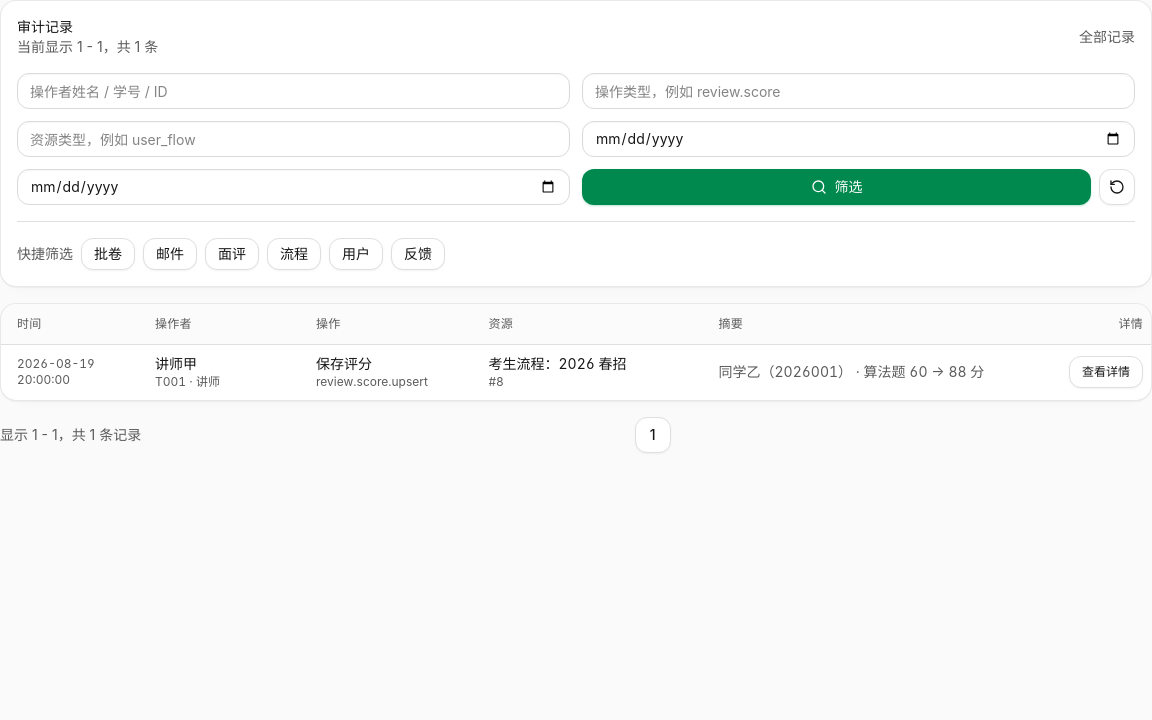
AuditLogTable › renders a compact scoring summary and reveals full details on demand
The width and height of the screenshot is (1152, 720).
Expected: the text "同学乙（2026001） · 算法题 60 → 88 分" is shown, [718,362,1031,382]
Expected: the text "2026-08-19" is shown, [17,356,95,371]
Click the button "查看详情" at (1106, 372), box [1069,356,1143,388]
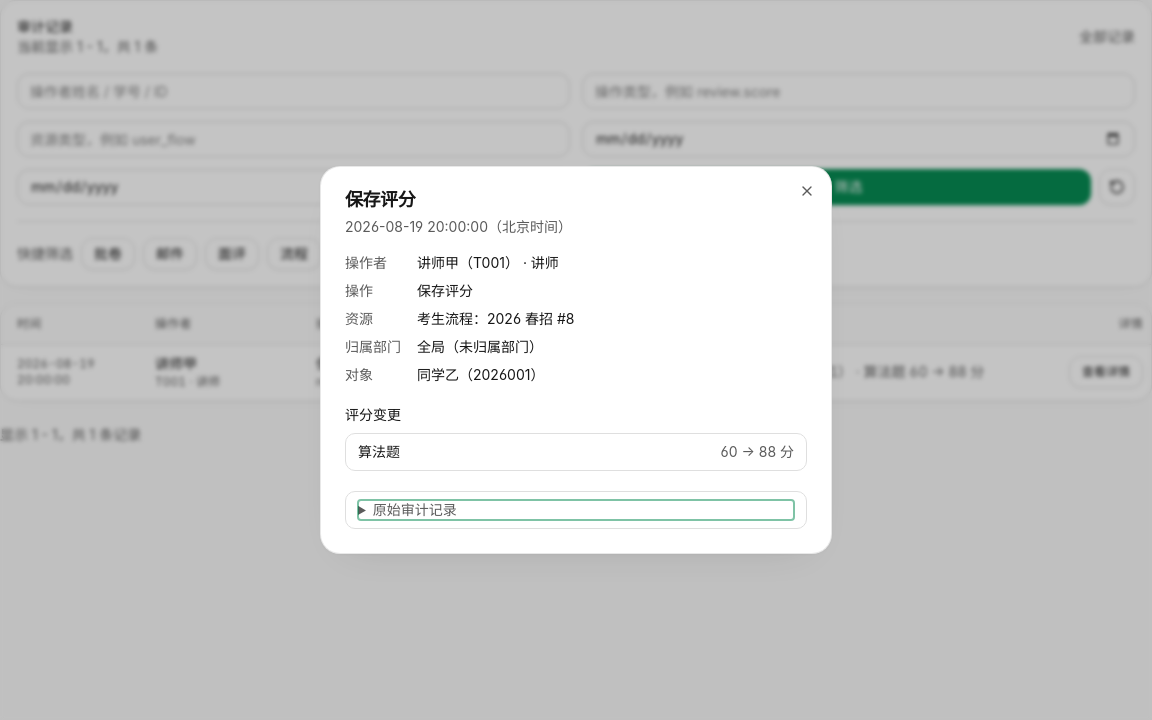
Now the dialog is shown, box [320,166,832,554]
Now the text "评分变更" is shown, box [345,406,401,423]
Now the text "算法题" is shown, box [358,442,400,462]
